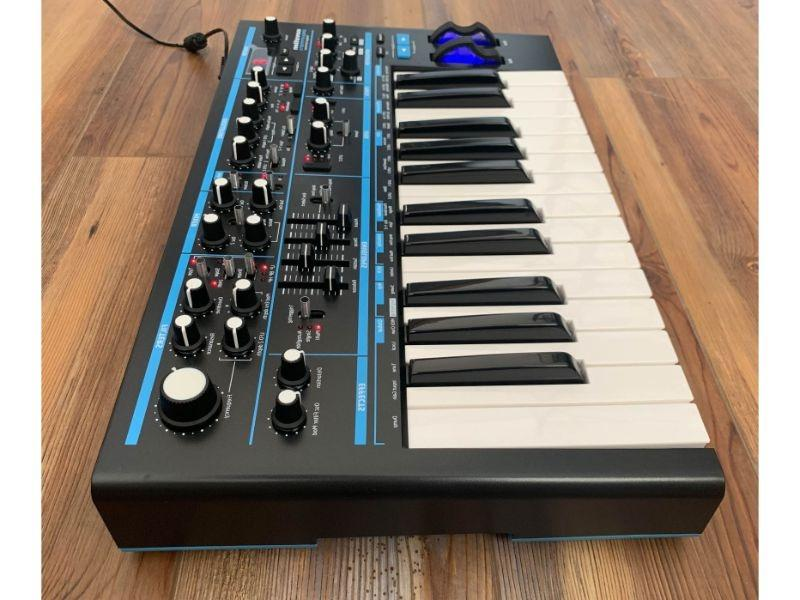synthesizer: (85, 22, 731, 546)
